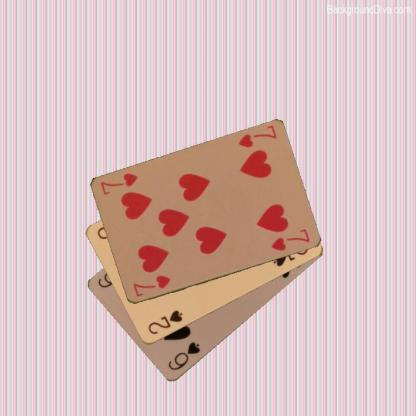2s: (145, 308, 184, 336)
6s: (165, 340, 202, 372)
7h: (236, 123, 279, 150), (128, 273, 172, 298)
